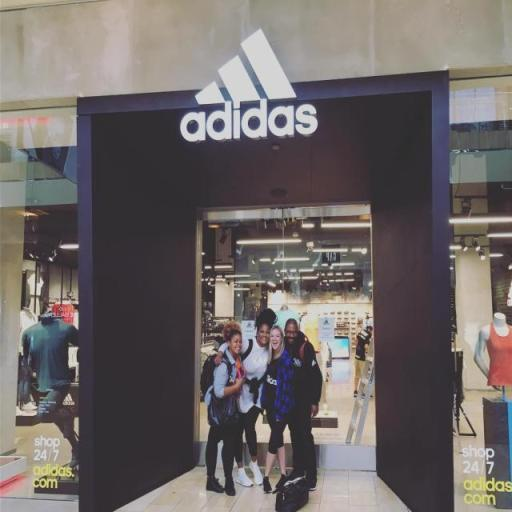Adidas: (178, 24, 320, 144), (62, 392, 75, 406)
